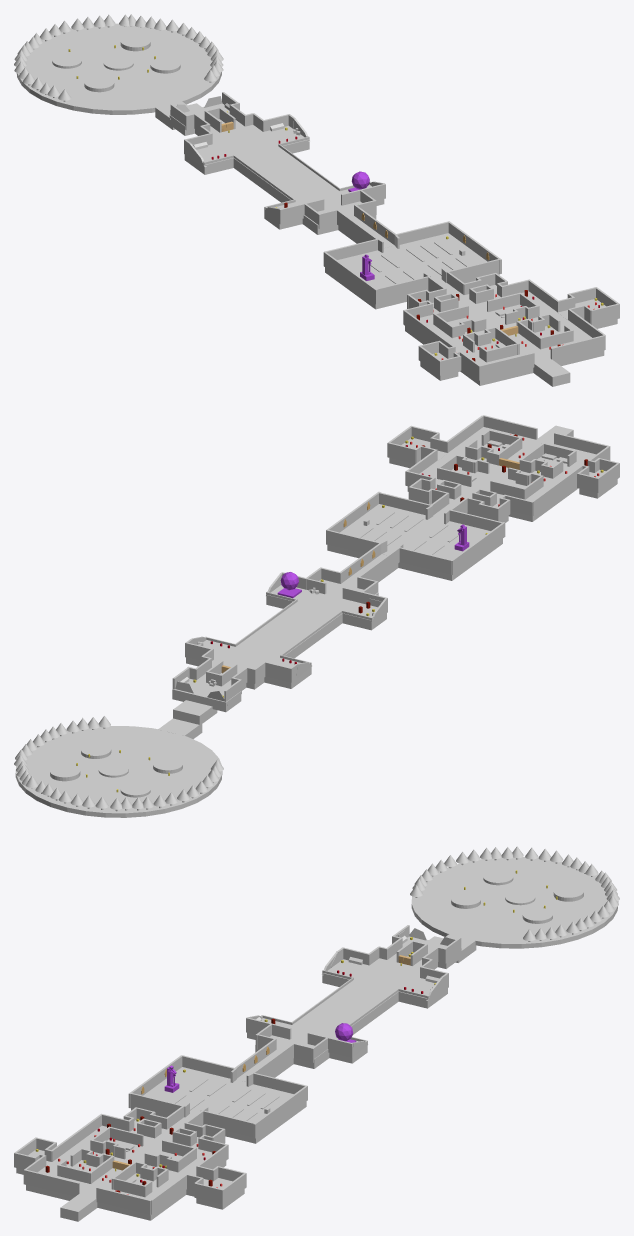
File: BlockingLvl2.fbx
The picture shows the model from 3 angles, top to bottom: view 1: azimuth 30°, elevation 25°; view 2: azimuth 150°, elevation 25°; view 3: azimuth 330°, elevation 25°; orthographic projection.
Parts seen in each view (by area): view 1: Cylinder_lvl2_lvl2_lvl2, MediumFightRoom_lvl2_lvl2_lvl2, BigFightRoom_lvl2_lvl2_lvl2, CorridorTyranids1_lvl2_lvl2_lvl2, LittleFightRoom2_lvl2_lvl2_lvl2, LittleRoom2.094_lvl2_lvl2_lvl2, LittleRoom2.058_lvl2_lvl2_lvl2, LittleRoom2.057_lvl2_lvl2_lvl2, LittleRoom2.092_lvl2_lvl2_lvl2, LittleFightRoom1_lvl2_lvl2_lvl2, Begining Lvl2_lvl2_lvl2_lvl2, LittleRoom2.093_lvl2_lvl2_lvl2 (+6 smaller); view 2: Cylinder_lvl2_lvl2_lvl2, MediumFightRoom_lvl2_lvl2_lvl2, BigFightRoom_lvl2_lvl2_lvl2, CorridorTyranids1_lvl2_lvl2_lvl2, LittleFightRoom1_lvl2_lvl2_lvl2, LittleFightRoom2_lvl2_lvl2_lvl2, Gun Room 1.001_lvl2_lvl2_lvl2, LittleRoom2.094_lvl2_lvl2_lvl2, LittleRoom2.097_lvl2_lvl2_lvl2, LittleRoom2.048_lvl2_lvl2_lvl2, Gun Room 1.002_lvl2_lvl2_lvl2, LittleRoom2.096_lvl2_lvl2_lvl2 (+7 smaller); view 3: Cylinder_lvl2_lvl2_lvl2, MediumFightRoom_lvl2_lvl2_lvl2, BigFightRoom_lvl2_lvl2_lvl2, CorridorTyranids1_lvl2_lvl2_lvl2, LittleFightRoom2_lvl2_lvl2_lvl2, LittleRoom2.095_lvl2_lvl2_lvl2, LittleRoom2.058_lvl2_lvl2_lvl2, LittleRoom2.057_lvl2_lvl2_lvl2, LittleRoom2.093_lvl2_lvl2_lvl2, LittleFightRoom1_lvl2_lvl2_lvl2, Begining Lvl2_lvl2_lvl2_lvl2, LittleRoom2.092_lvl2_lvl2_lvl2 (+7 smaller).
Boxes of the visible parts, x1,y1,x2,y2 form: Cylinder_lvl2_lvl2_lvl2: (16, 23, 221, 114); MediumFightRoom_lvl2_lvl2_lvl2: (325, 233, 499, 309); BigFightRoom_lvl2_lvl2_lvl2: (405, 291, 604, 385); CorridorTyranids1_lvl2_lvl2_lvl2: (233, 147, 341, 202); LittleFightRoom2_lvl2_lvl2_lvl2: (184, 125, 309, 174); LittleRoom2.094_lvl2_lvl2_lvl2: (323, 251, 377, 304); LittleRoom2.058_lvl2_lvl2_lvl2: (550, 335, 605, 361); LittleRoom2.057_lvl2_lvl2_lvl2: (480, 352, 534, 380); LittleRoom2.092_lvl2_lvl2_lvl2: (376, 276, 429, 303); LittleFightRoom1_lvl2_lvl2_lvl2: (264, 184, 384, 229); Begining Lvl2_lvl2_lvl2_lvl2: (533, 359, 570, 386); LittleRoom2.093_lvl2_lvl2_lvl2: (447, 259, 499, 282); Cylinder_lvl2_lvl2_lvl2: (15, 726, 222, 817); MediumFightRoom_lvl2_lvl2_lvl2: (327, 504, 502, 580); BigFightRoom_lvl2_lvl2_lvl2: (407, 427, 595, 521); CorridorTyranids1_lvl2_lvl2_lvl2: (237, 601, 342, 658); LittleFightRoom1_lvl2_lvl2_lvl2: (266, 585, 386, 630); LittleFightRoom2_lvl2_lvl2_lvl2: (186, 640, 311, 688); Gun Room 1.001_lvl2_lvl2_lvl2: (172, 678, 241, 712); LittleRoom2.094_lvl2_lvl2_lvl2: (452, 522, 505, 574); LittleRoom2.097_lvl2_lvl2_lvl2: (399, 547, 452, 574); LittleRoom2.048_lvl2_lvl2_lvl2: (532, 465, 582, 515); Gun Room 1.002_lvl2_lvl2_lvl2: (173, 700, 217, 724); LittleRoom2.096_lvl2_lvl2_lvl2: (326, 530, 379, 553); Cylinder_lvl2_lvl2_lvl2: (411, 857, 618, 948); MediumFightRoom_lvl2_lvl2_lvl2: (131, 1067, 306, 1143); BigFightRoom_lvl2_lvl2_lvl2: (26, 1125, 226, 1220); CorridorTyranids1_lvl2_lvl2_lvl2: (290, 980, 398, 1036); LittleFightRoom2_lvl2_lvl2_lvl2: (322, 959, 447, 1008); LittleRoom2.095_lvl2_lvl2_lvl2: (253, 1085, 307, 1138); LittleRoom2.058_lvl2_lvl2_lvl2: (96, 1187, 151, 1215); LittleRoom2.057_lvl2_lvl2_lvl2: (25, 1169, 79, 1196); LittleRoom2.093_lvl2_lvl2_lvl2: (202, 1110, 255, 1137); LittleFightRoom1_lvl2_lvl2_lvl2: (247, 1018, 367, 1063); Begining Lvl2_lvl2_lvl2_lvl2: (60, 1194, 97, 1221); LittleRoom2.092_lvl2_lvl2_lvl2: (130, 1093, 184, 1116).
Size of the model in its own units: 14922 by 3608 by 64870.
